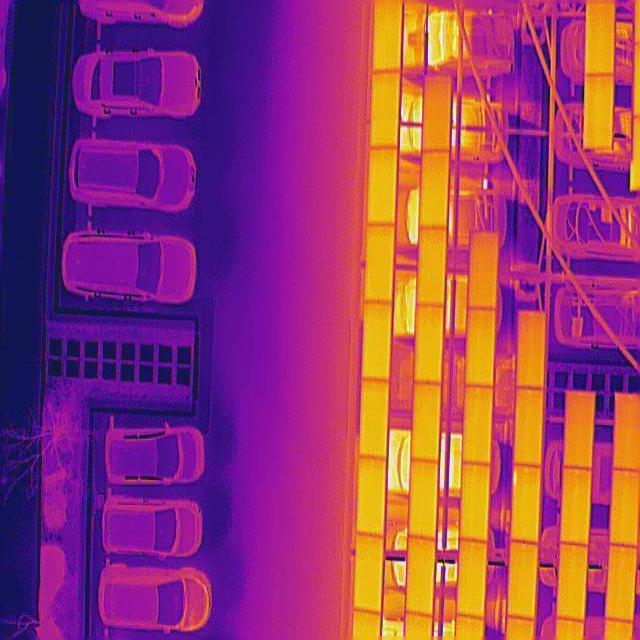Cell: (512, 465, 542, 541)
No-Anomaly: (564, 390, 595, 469), (370, 70, 401, 149), (469, 231, 499, 310), (606, 546, 637, 622), (368, 148, 398, 226), (363, 301, 392, 381), (515, 389, 545, 465), (562, 468, 592, 544), (415, 304, 444, 382), (355, 535, 384, 613), (458, 540, 486, 619), (418, 229, 447, 305), (373, 0, 404, 71), (420, 150, 448, 228), (360, 380, 388, 458), (357, 460, 386, 535), (468, 308, 495, 388), (412, 384, 441, 458), (585, 74, 614, 148), (367, 225, 395, 301), (517, 312, 545, 388), (410, 462, 438, 538), (407, 539, 435, 615), (509, 542, 537, 618), (424, 75, 452, 151), (587, 1, 616, 74), (465, 386, 492, 464), (461, 466, 489, 540), (559, 546, 587, 620), (612, 470, 638, 546)
